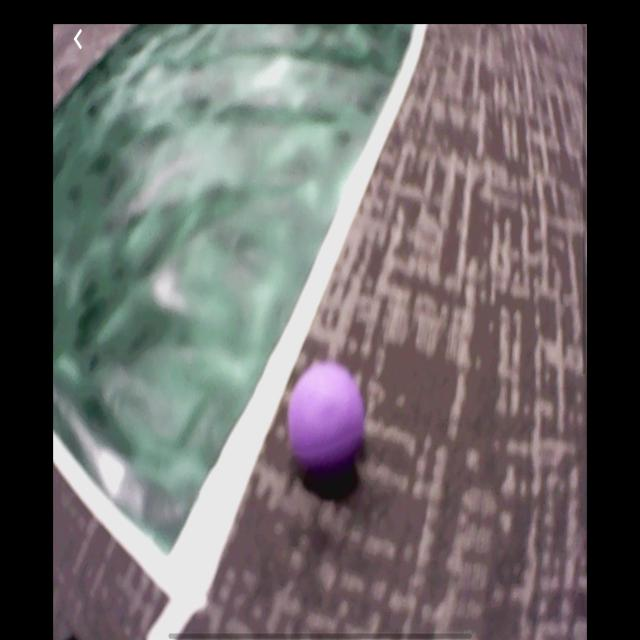ball: (288, 362, 364, 472)
